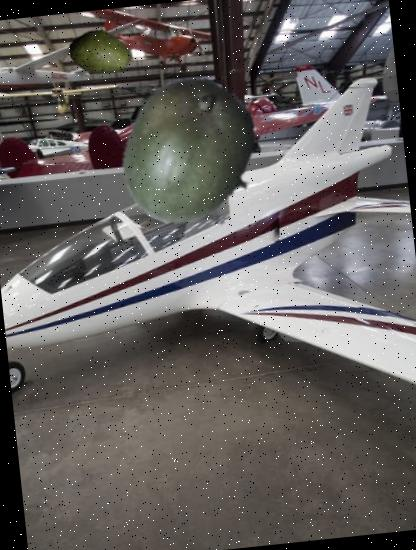Avocado: (66, 16, 135, 85)
Mango: (110, 72, 274, 236)
